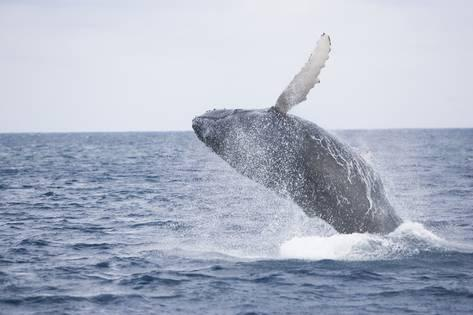humpback: (191, 105, 405, 226)
